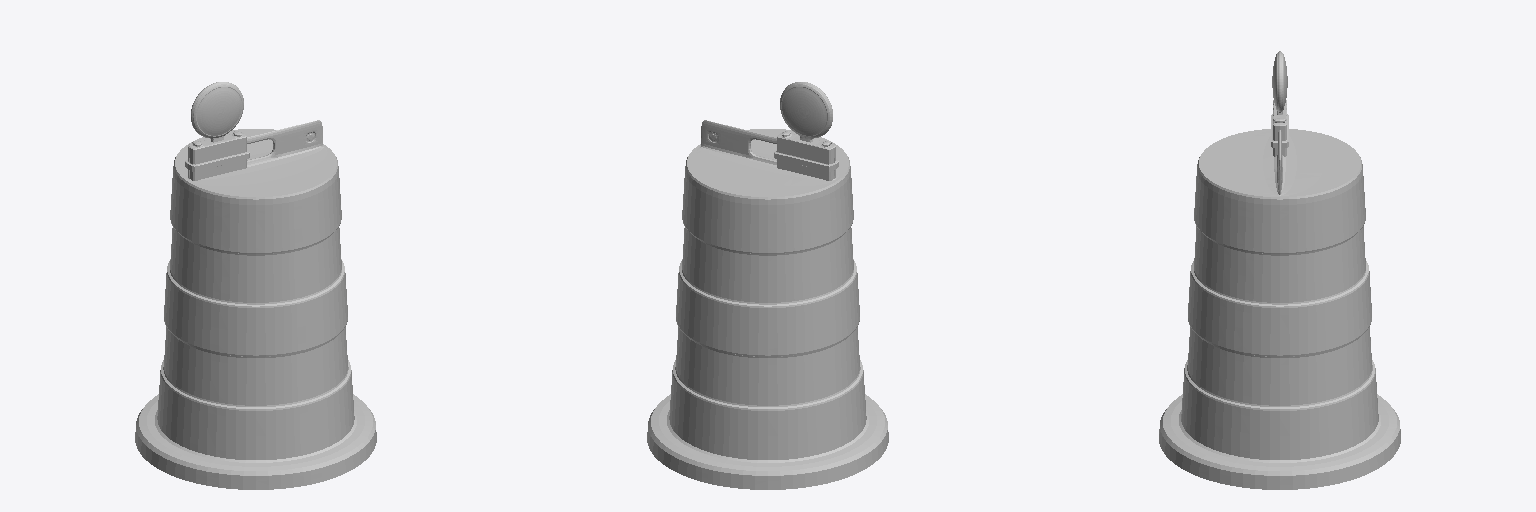
Rendered from Traffic-Cone-high.obj.
3 renders of one model, left to right at view 1: azimuth 30°, elevation 25°; view 2: azimuth 150°, elevation 25°; view 3: azimuth 270°, elevation 25°, orthographic.
Parts seen in each view (by area): view 1: Construction_Barrel; view 2: Construction_Barrel; view 3: Construction_Barrel.
Part boxes in pixels (bbox=[...]): Construction_Barrel: bbox=[135, 82, 376, 489]; Construction_Barrel: bbox=[647, 82, 888, 489]; Construction_Barrel: bbox=[1159, 51, 1400, 489].
Size of the model in its own units: 2.56 by 4.27 by 2.56.